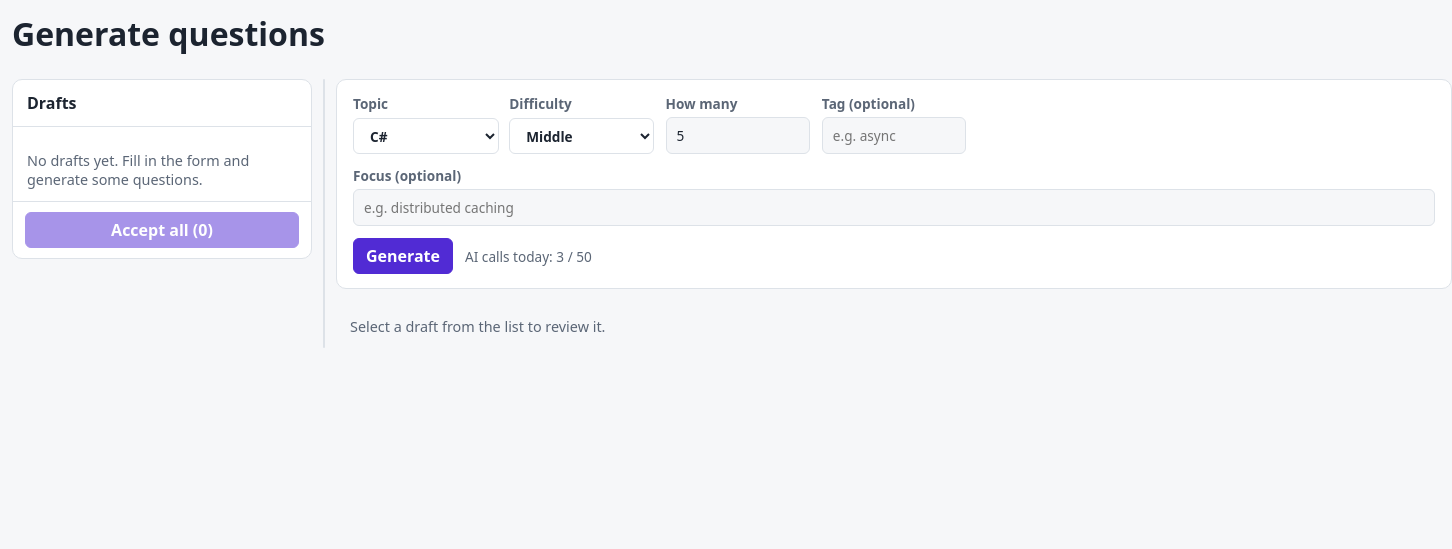
Test case: GenerateQuestionsPage › generating › lists the Drafts, selects the first and labels it as AI-generated
The width and height of the screenshot is (1452, 549).
Click the button "Generate".
click(403, 256)  # box [353, 238, 453, 274]
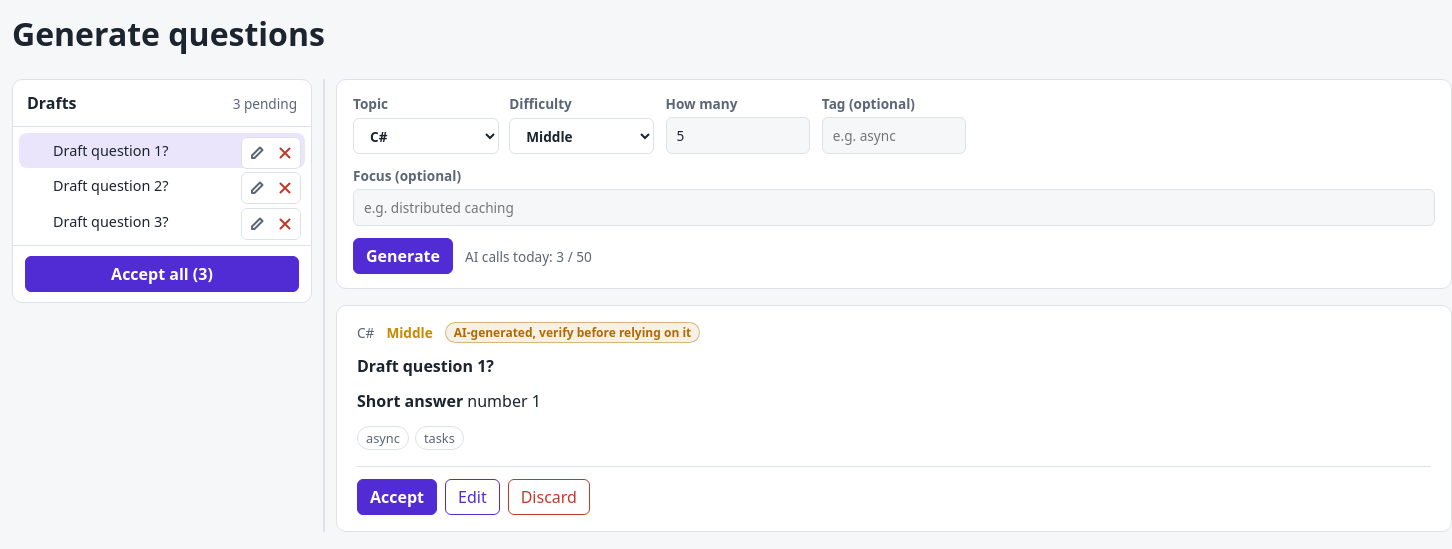
Expected: the button named "Edit draft: Draft question 1?" is shown, [244, 140, 270, 166]
Expected: the text "Draft question 1?" below "C#" is shown, [357, 355, 494, 377]
Expected: the text "number 1" is shown, [463, 390, 541, 412]
